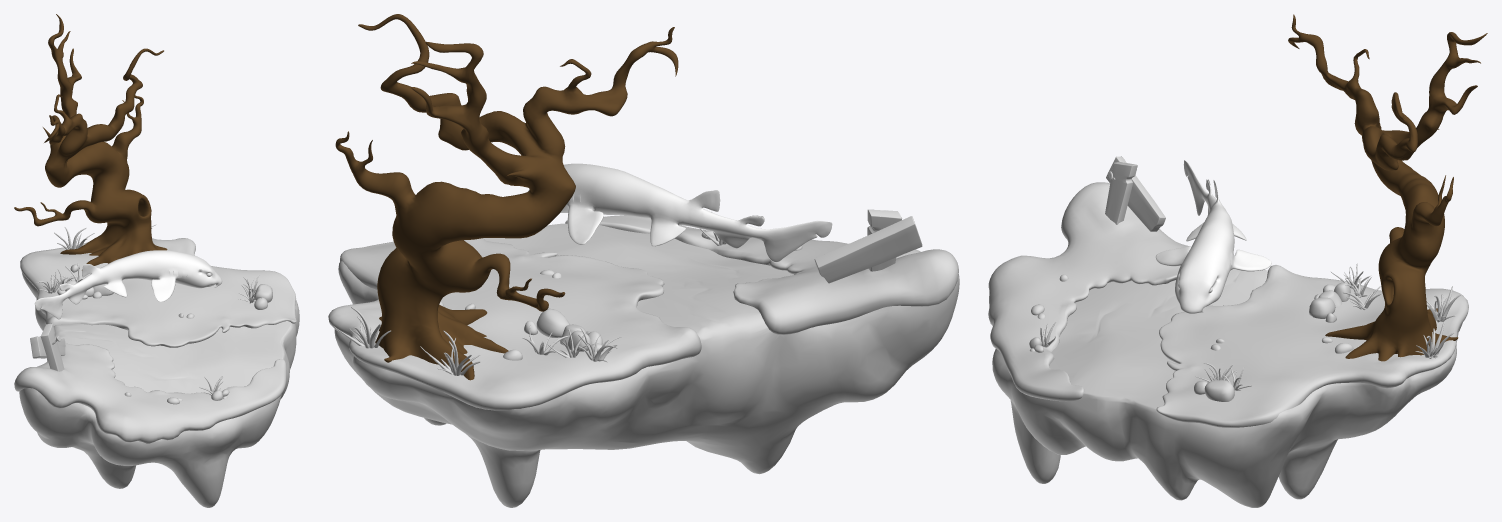
The model's file is fish.glb.
3 renders of one model, left to right at view 1: azimuth 30°, elevation 25°; view 2: azimuth 150°, elevation 25°; view 3: azimuth 270°, elevation 25°, orthographic. The views are drawn at different scales.
Visible parts, largest first — view 1: node_id94, node_id92, node_id111; view 2: node_id94, node_id92, node_id111; view 3: node_id94, node_id92, node_id111.
Boxes of the visible parts, x1,y1,x2,y2 form: node_id94: (14,224,299,507); node_id92: (14,14,167,270); node_id111: (34,250,222,319); node_id94: (328,209,959,507); node_id92: (335,14,678,380); node_id111: (528,163,832,262); node_id94: (988,156,1468,507); node_id92: (1288,14,1487,361); node_id111: (1155,160,1271,313).
Bounding box in the file's own units: 0.512 × 0.5357 × 0.5239.
